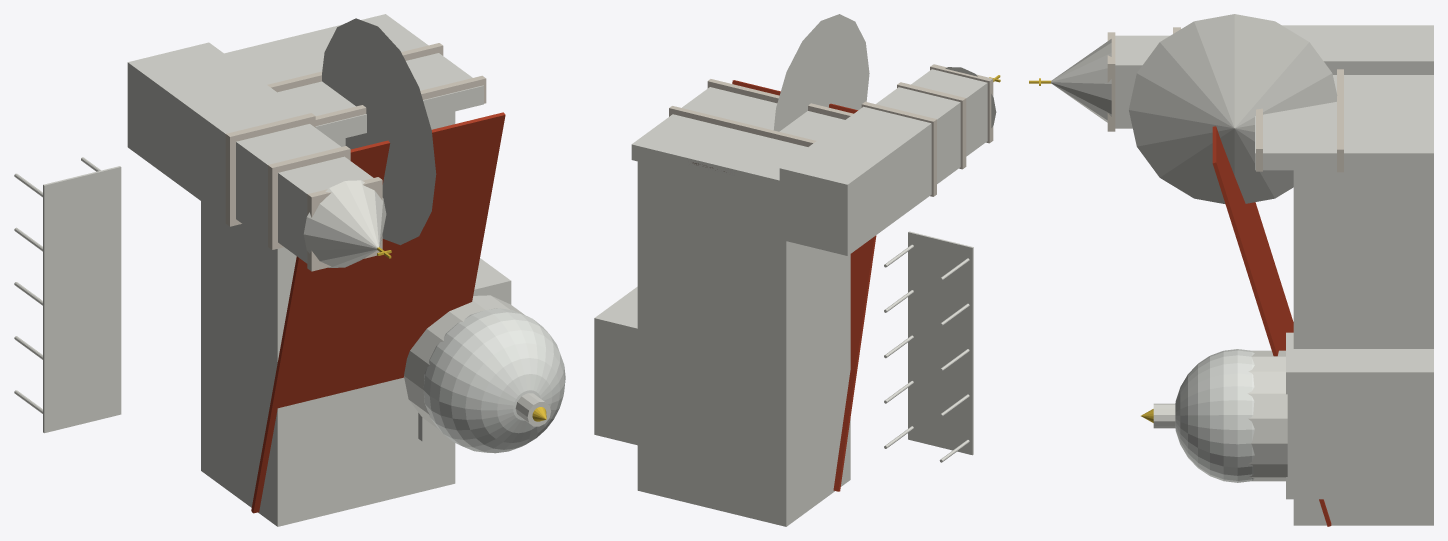
File: entorno_iglesia.obj
3 views of the same model, side by side, from view 1: azimuth 30°, elevation 25°; view 2: azimuth 150°, elevation 25°; view 3: azimuth 270°, elevation 25° (orthographic). The views are drawn at different scales.
Visible parts, largest first — view 1: Export_Iglesia; view 2: Export_Iglesia; view 3: Export_Iglesia.
Boxes of the visible parts, x1,y1,x2,y2 form: Export_Iglesia: [14, 14, 565, 526]; Export_Iglesia: [594, 14, 1000, 526]; Export_Iglesia: [1029, 14, 1433, 526].
Size of the model in its own units: 29.65 by 32.8 by 26.
